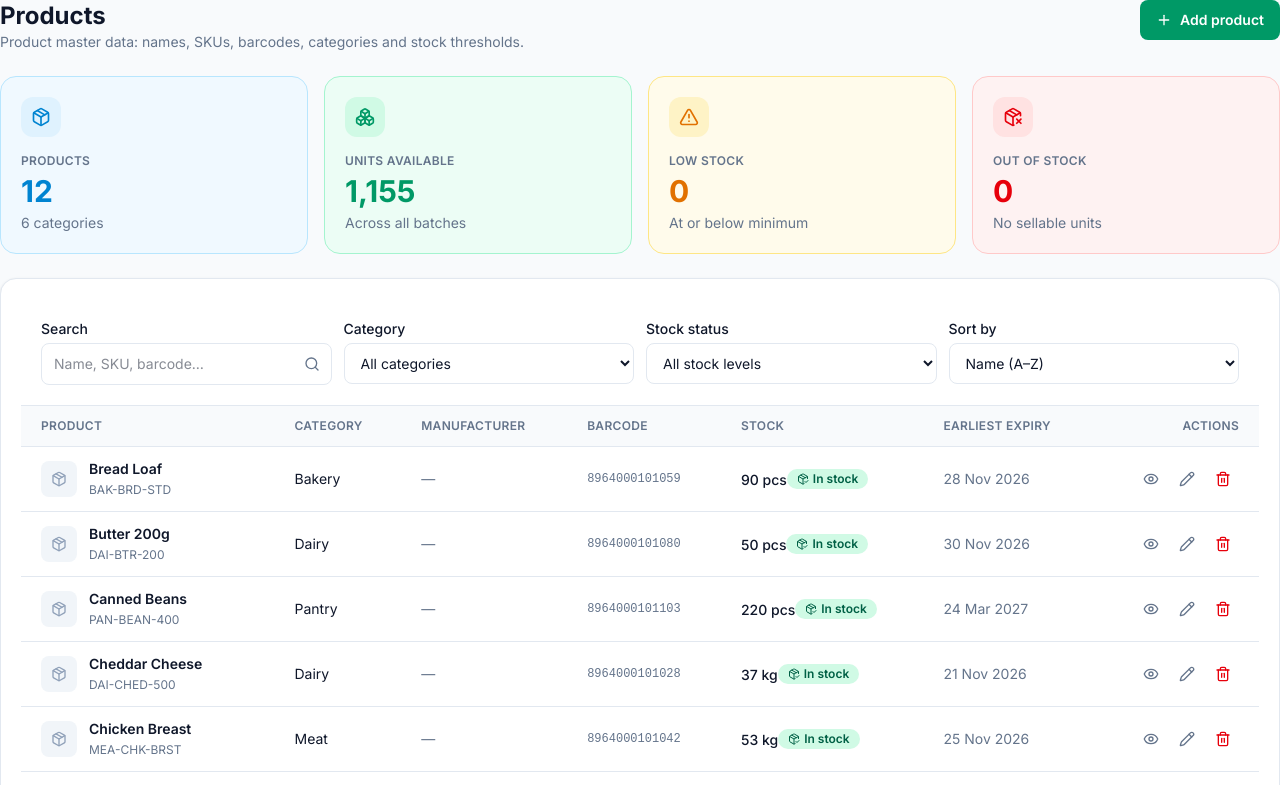
Test: ProductsPage › opens the add-product form
Click the button "Add product": (1210, 20) top-left (1140, 0), bottom-right (1279, 40)
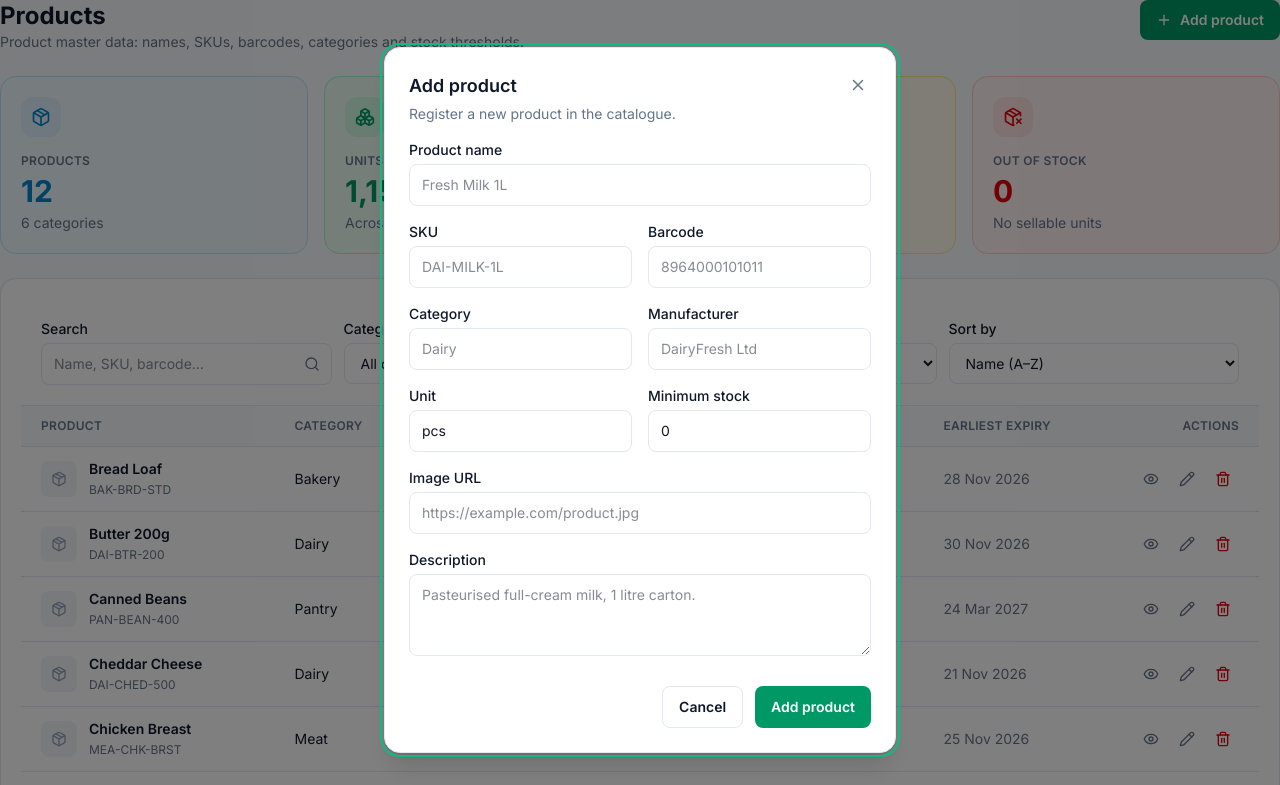
Check: the dialog "Add product" is shown, box top-left (384, 47), bottom-right (896, 753)
Check: the field labelled "Product name" is shown, box top-left (409, 164), bottom-right (871, 206)
Check: the field labelled "Manufacturer" is shown, box top-left (648, 328), bottom-right (871, 370)
